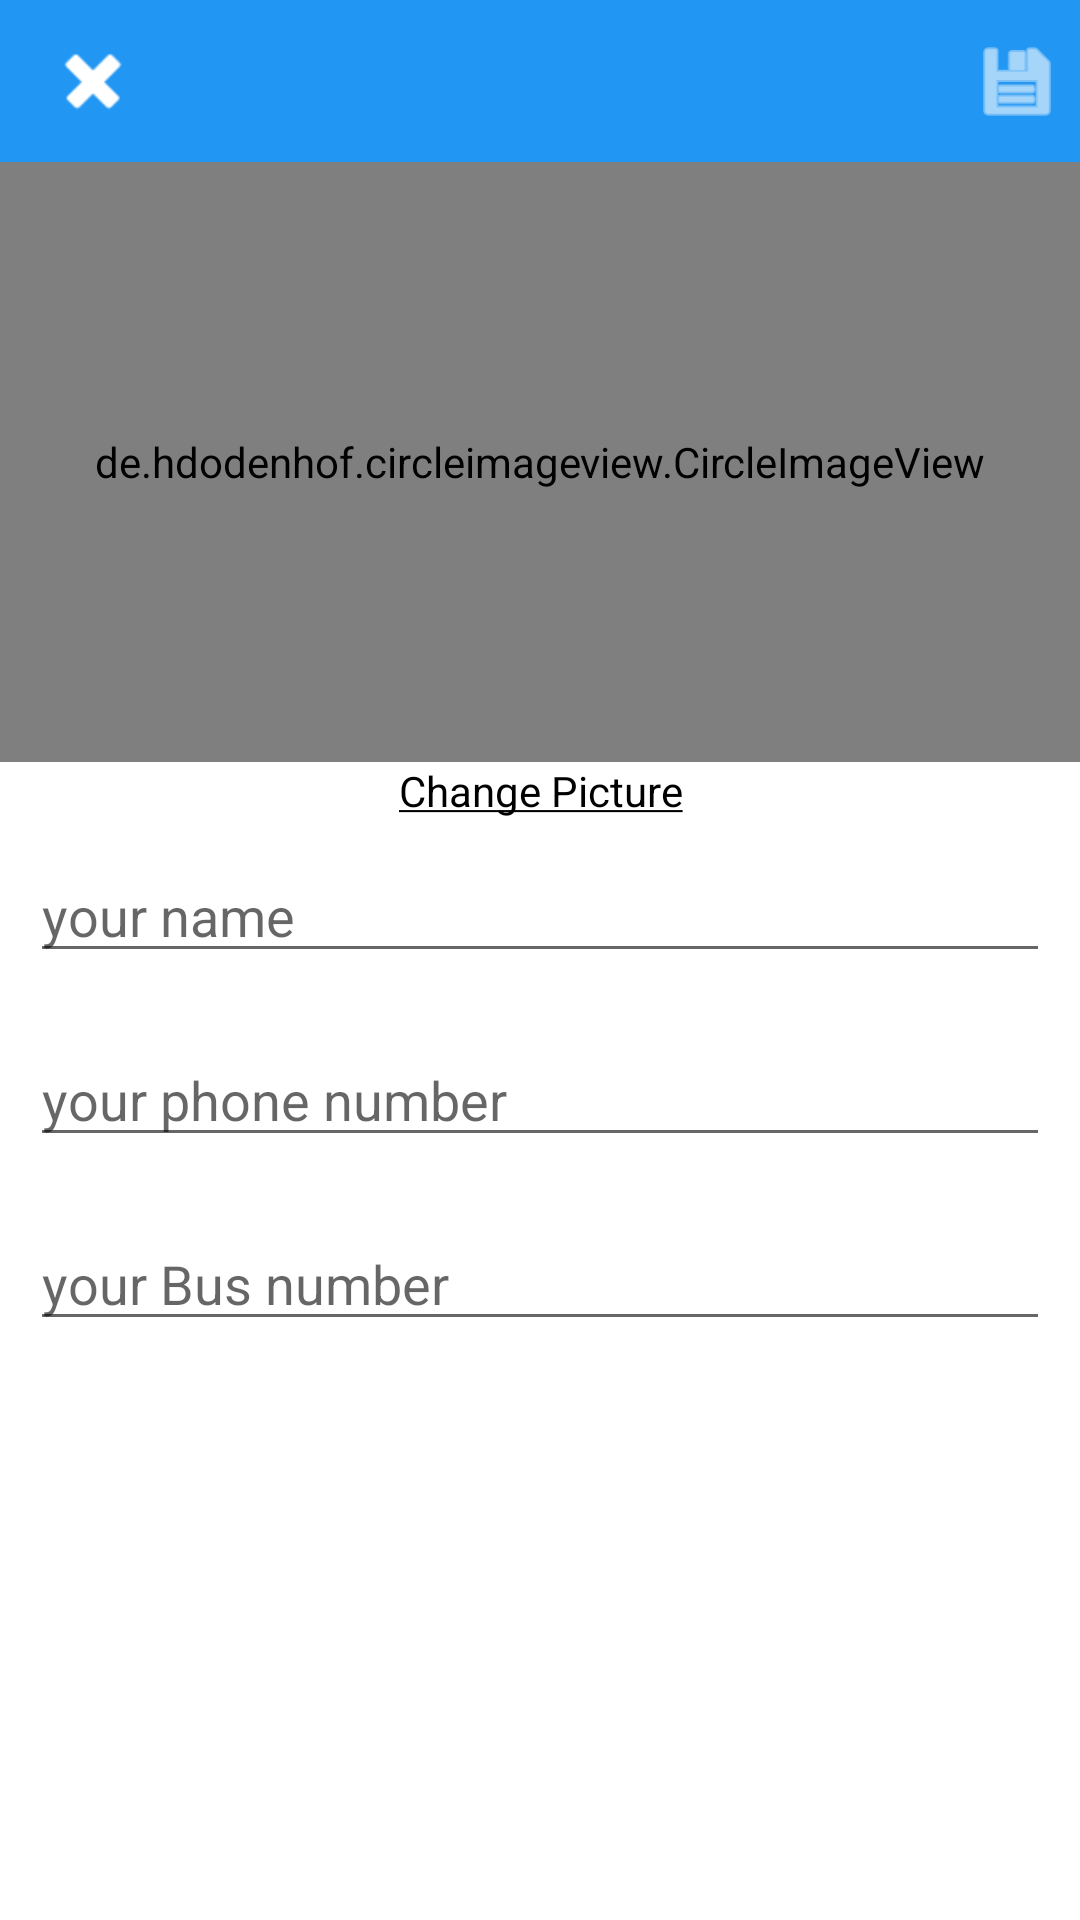

Screen size 1080×1920. Icon name, then its center in pixels as [x,y]:
save: [1017,81]
